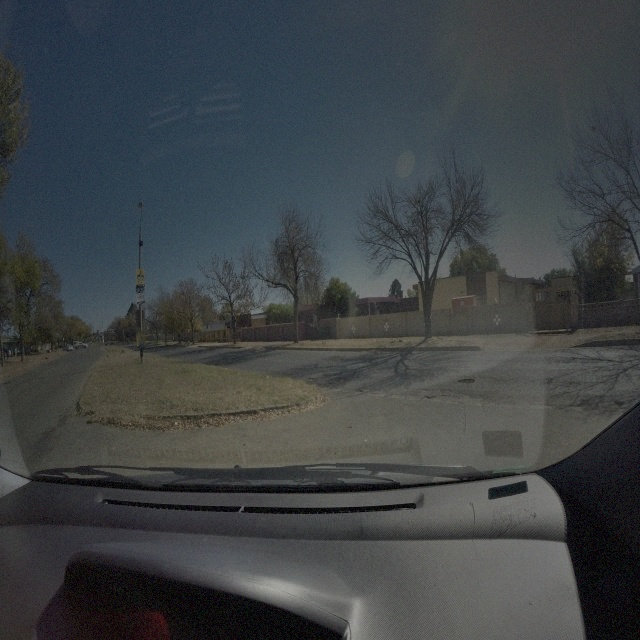pothole: (458, 376, 475, 386), (423, 393, 436, 400)
